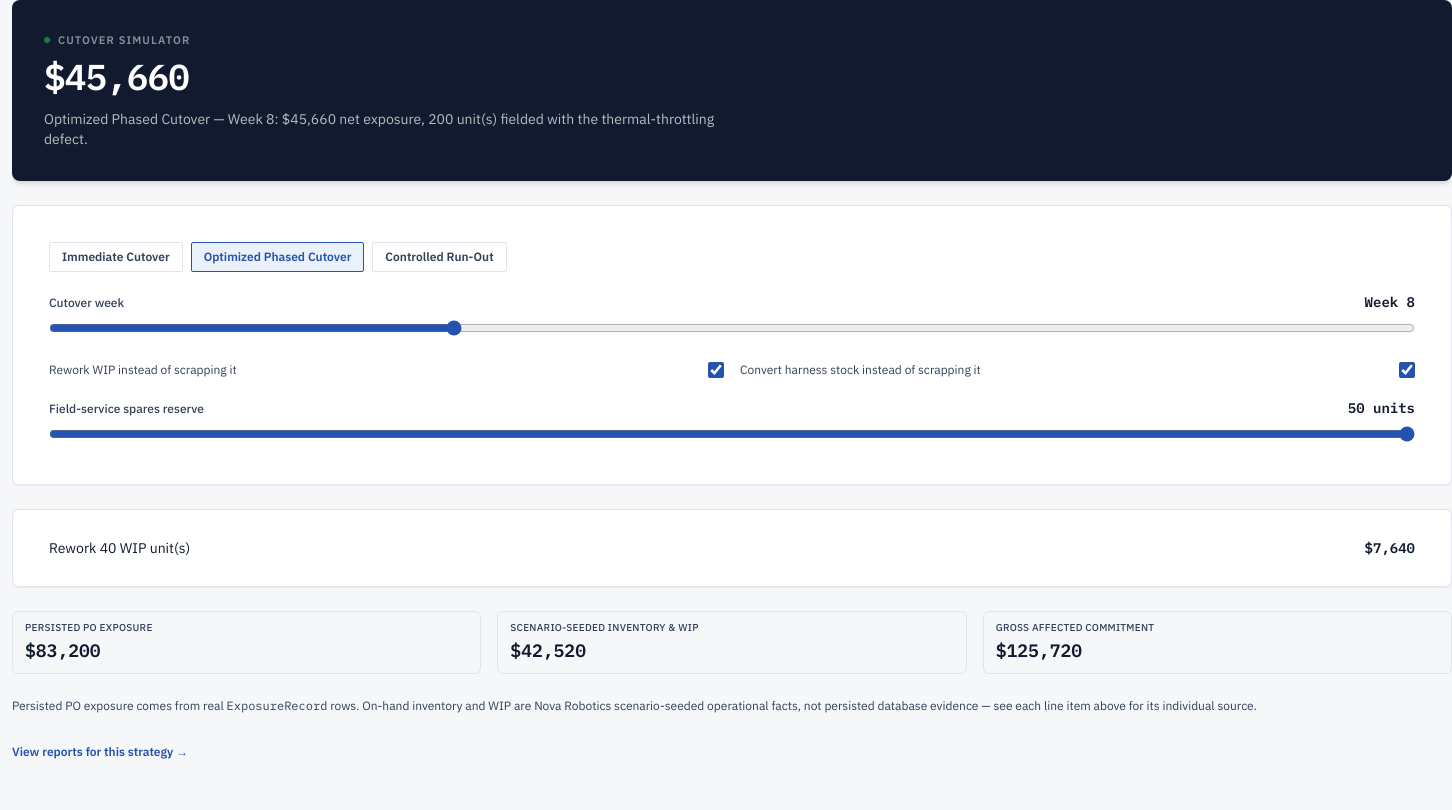
Test case: CutoverSimulatorClient › shows a visible error, not a silent no-op, when a recalculation fails
Click the button "Immediate Cutover": [116, 256] box [49,242,183,272]
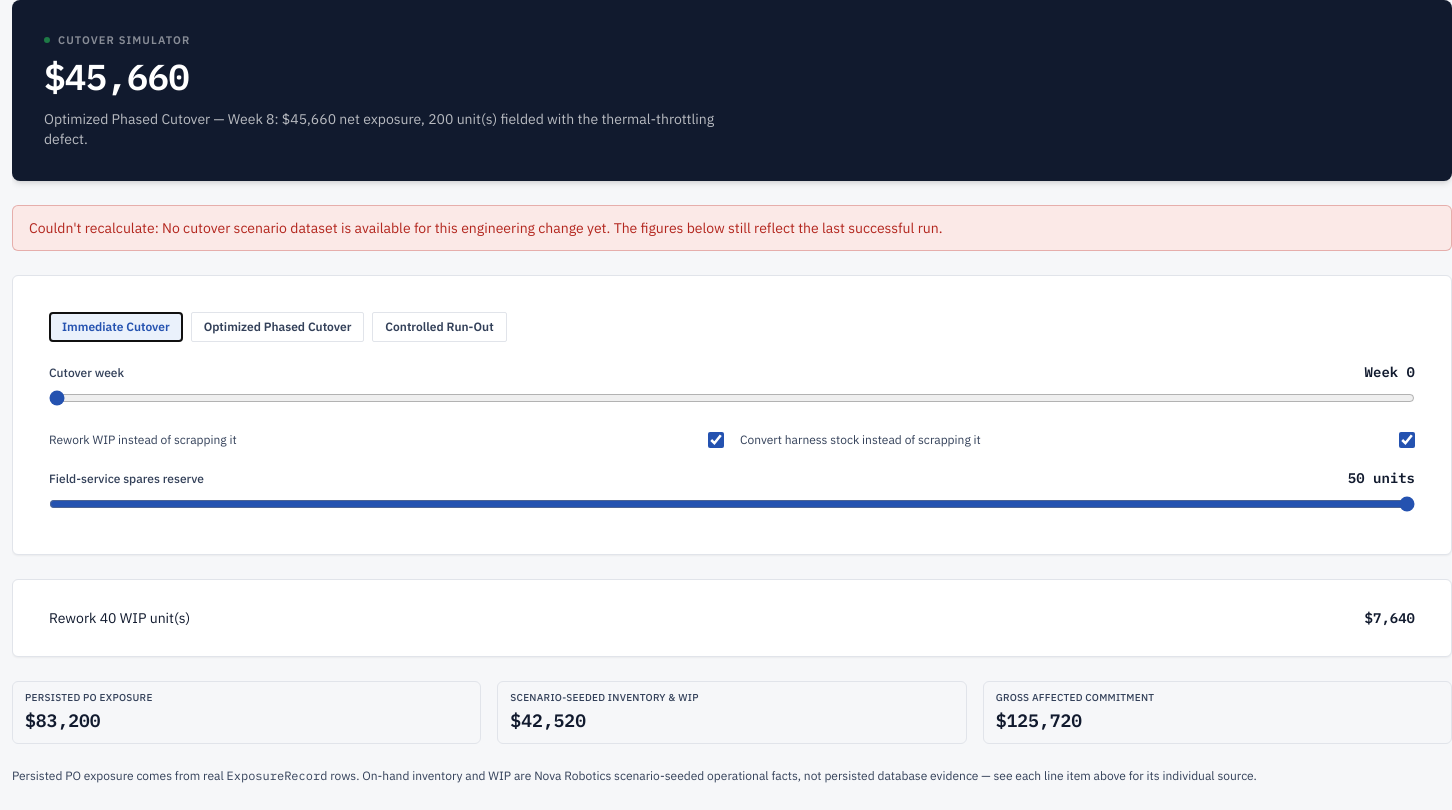
Expected: the text "$45,660" is shown, [44,52,189,100]
Now the text "Couldn't recalculate" is shown, box [29,218,162,236]
Now the text "No cutover scenario dataset is available" is shown, box [162,218,610,236]
